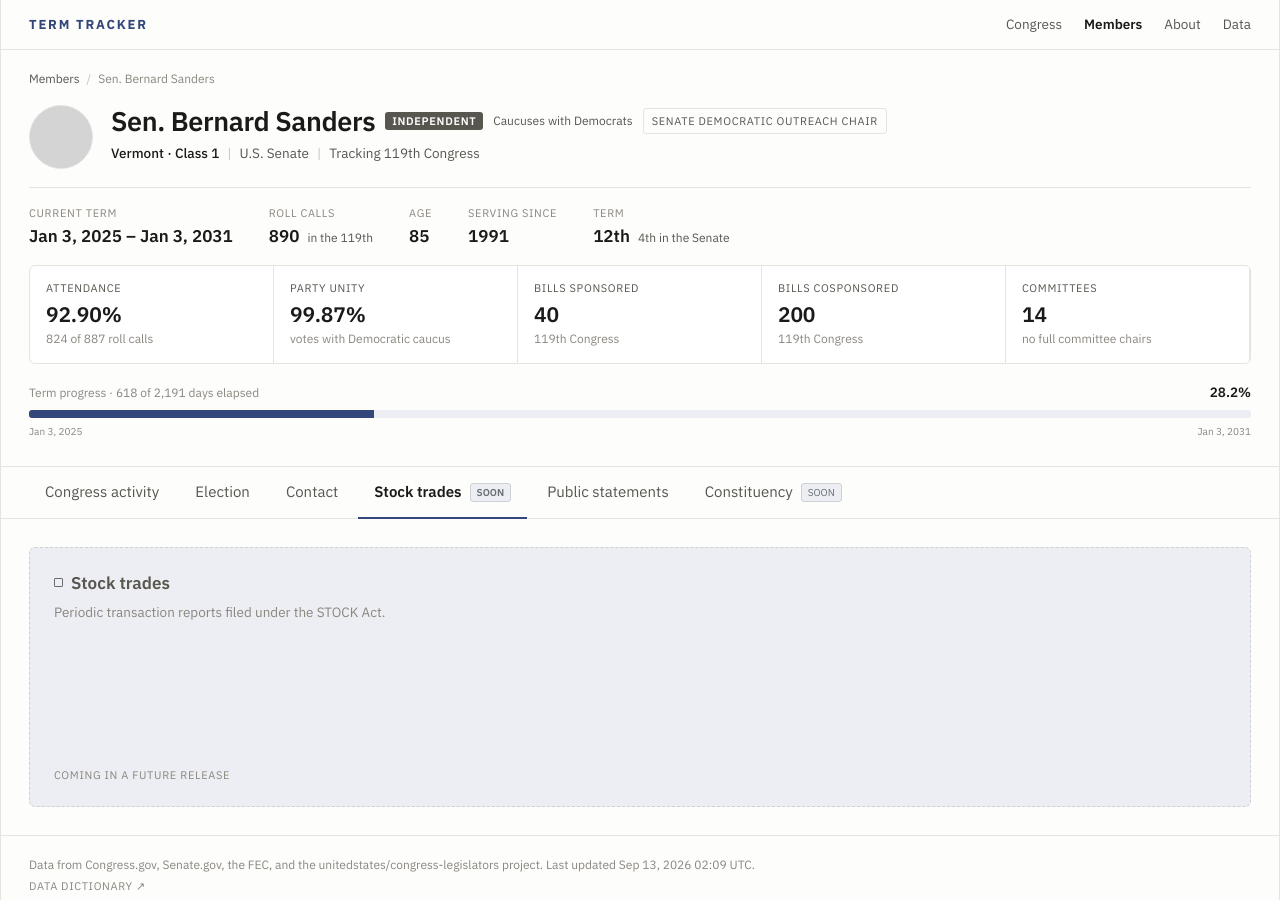
Test case: member dashboard: public statements tab › opens on the feed for a member with one, with no Soon marker
Click the tab "Public statements": (608, 493) [531, 467, 685, 519]
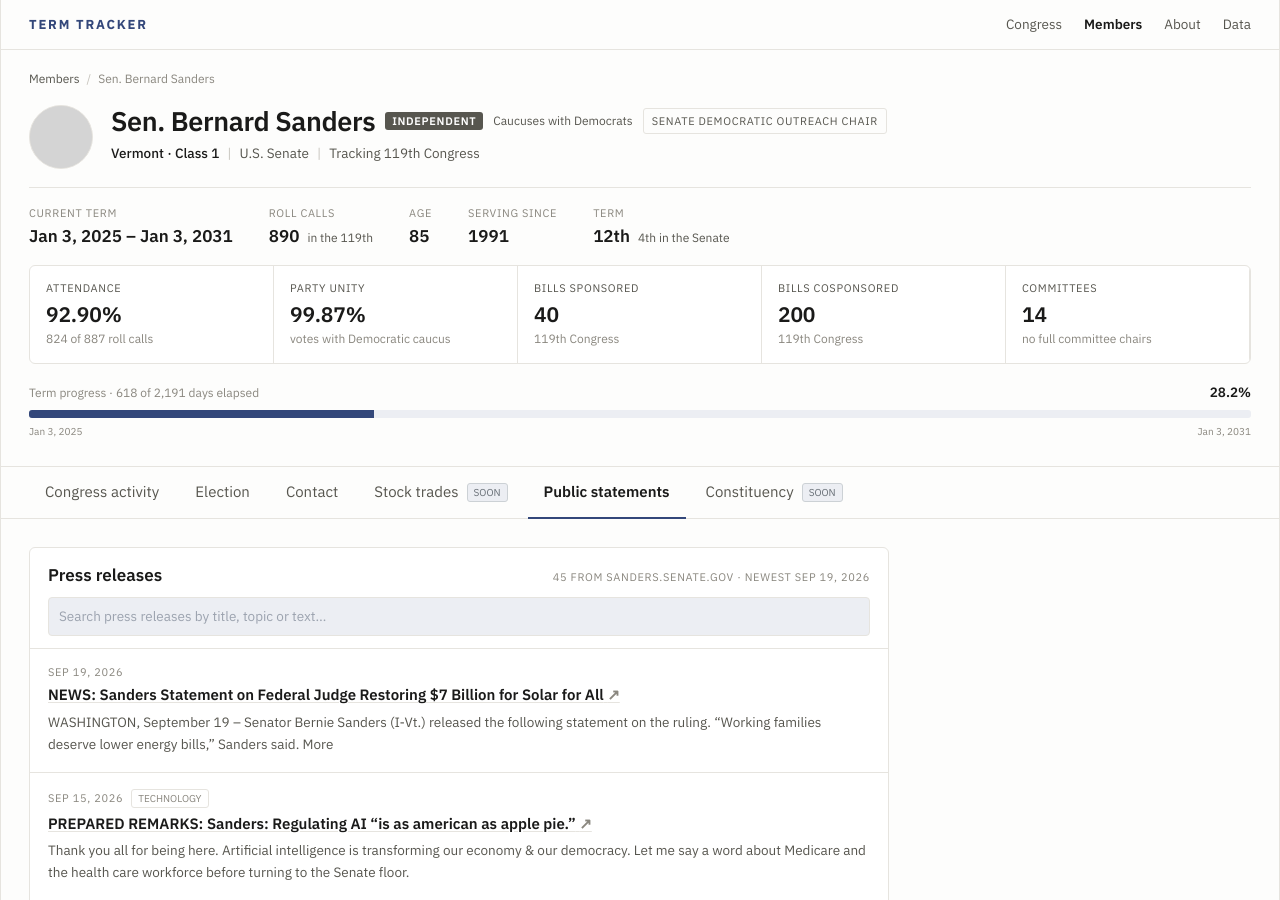
Check: the search field named "Search public statements" is shown, box [48, 597, 870, 636]
